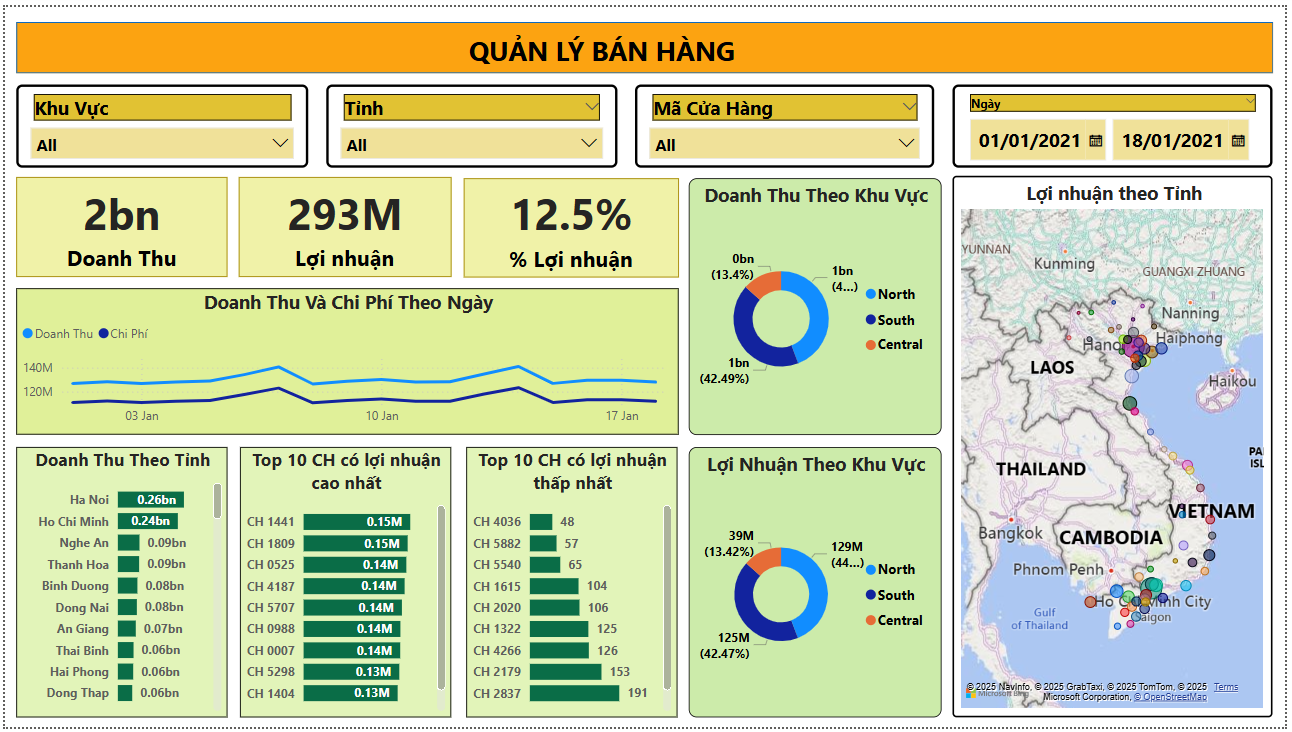

Layout of this report page (visuals, bound fields, positions):
{"tool":"powerbi","page":{"name":"Page 1","canvas":[1280,720],"ordinal":0},"visuals":[{"type":"shape","box":[11,14.7,1257.1,51.4],"z":0},{"type":"textbox","box":[458.6,19.6,362,46.5],"z":1000},{"type":"slicer","fields":{"Values":["DS Tinh.Khu Vực"]},"box":[11,77,292.3,83.2],"z":2000},{"type":"slicer","fields":{"Values":["DS Tinh.Tỉnh"]},"box":[321.6,77,291,83.2],"z":3000},{"type":"slicer","fields":{"Values":["DS Cua Hang.Mã Cửa Hàng"]},"box":[629.8,77,299.6,83.2],"z":4000},{"type":"slicer","fields":{"Values":["Ket Qua KD.Ngày"]},"box":[947.7,77,320.4,83.2],"z":5000},{"type":"card","fields":{"Values":["Sum(Ket Qua KD.Doanh Thu)"]},"box":[11,170,211.6,100.3],"z":6000},{"type":"card","fields":{"Values":["Sum(Ket Qua KD.Lợi nhuận)"]},"box":[234.2,170,212.8,100.3],"z":7000},{"type":"card","fields":{"Values":["DS Cua Hang.% Lợi nhuận"]},"box":[458.6,171.2,215.2,99],"z":8000},{"type":"lineChart","title":"Doanh Thu Và Chi Phí Theo Ngày","fields":{"Y":["Sum(Ket Qua KD.Doanh Thu)","Sum(Ket Qua KD.Chi Phí)"],"Category":["Ket Qua KD.Ngày"]},"box":[11,281.3,662.8,146.7],"z":9000},{"type":"map","title":"Lợi nhuận theo Tỉnh","fields":{"Series":["DS Tinh.Tỉnh"],"Y":["DS Tinh.latitude"],"X":["DS Tinh.longitude"],"Size":["Sum(Ket Qua KD.Lợi nhuận)"]},"box":[947.7,168.8,320.4,541.7],"z":9001},{"type":"donutChart","title":"Doanh Thu Theo Khu Vực","fields":{"Y":["Sum(Ket Qua KD.Doanh Thu)"],"Category":["DS Tinh.Khu Vực"]},"box":[683.6,171.2,253.1,256.8],"z":9002},{"type":"donutChart","title":"Lợi Nhuận Theo Khu Vực","fields":{"Category":["DS Tinh.Khu Vực"],"Y":["Sum(Ket Qua KD.Lợi nhuận)"]},"box":[683.6,440.2,253.1,270.2],"z":9003},{"type":"barChart","title":"Doanh Thu Theo Tỉnh","fields":{"Category":["DS Tinh.Tỉnh"],"Y":["Sum(Ket Qua KD.Doanh Thu)"]},"box":[11,440.2,211.6,270.2],"z":9006},{"type":"barChart","title":"Top 10 CH có lợi nhuận cao nhất","fields":{"Category":["DS Cua Hang.Mã Cửa Hàng"],"Y":["Sum(Ket Qua KD.Lợi nhuận)"]},"box":[235.4,440.2,211.6,270.2],"z":9007},{"type":"barChart","title":"Top 10 CH có lợi nhuận thấp nhất","fields":{"Y":["Sum(Ket Qua KD.Lợi nhuận)"],"Category":["DS Cua Hang.Mã Cửa Hàng"]},"box":[461.1,440.5,211.3,270.3],"z":9008}]}

Visuals, with their boxes in screenshot pixels (x1, y1, x2, y2), scaled from the page's 1280x720 canvas onto the 1292x732 screenshot:
shape: crop(11, 15, 1280, 67)
textbox: crop(463, 20, 828, 67)
slicer - DS Tinh.Khu Vực: crop(11, 78, 306, 163)
slicer - DS Tinh.Tỉnh: crop(325, 78, 618, 163)
slicer - DS Cua Hang.Mã Cửa Hàng: crop(636, 78, 938, 163)
slicer - Ket Qua KD.Ngày: crop(957, 78, 1280, 163)
card - Sum(Ket Qua KD.Doanh Thu): crop(11, 173, 225, 275)
card - Sum(Ket Qua KD.Lợi nhuận): crop(236, 173, 451, 275)
card - DS Cua Hang.% Lợi nhuận: crop(463, 174, 680, 275)
"Doanh Thu Và Chi Phí Theo Ngày" lineChart: crop(11, 286, 680, 435)
"Lợi nhuận theo Tỉnh" map: crop(957, 172, 1280, 722)
"Doanh Thu Theo Khu Vực" donutChart: crop(690, 174, 945, 435)
"Lợi Nhuận Theo Khu Vực" donutChart: crop(690, 448, 945, 722)
"Doanh Thu Theo Tỉnh" barChart: crop(11, 448, 225, 722)
"Top 10 CH có lợi nhuận cao nhất" barChart: crop(238, 448, 451, 722)
"Top 10 CH có lợi nhuận thấp nhất" barChart: crop(465, 448, 679, 723)
